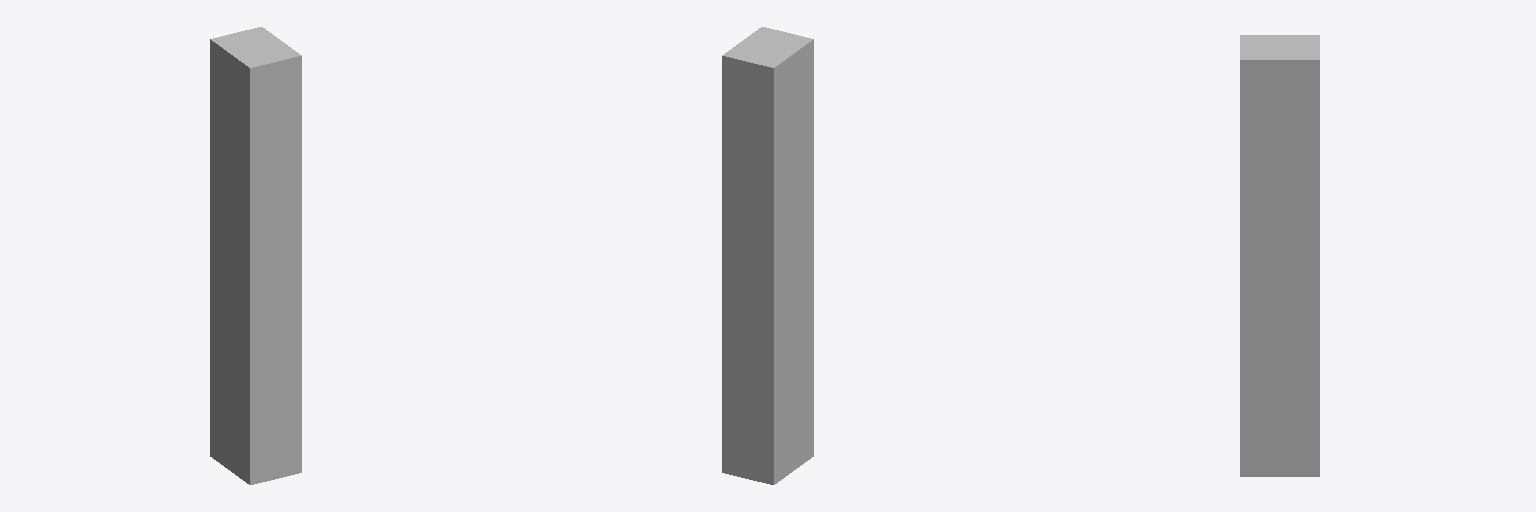
The model's file is laser_blade_1009.obj.
3 renders of one model, left to right at view 1: azimuth 30°, elevation 25°; view 2: azimuth 150°, elevation 25°; view 3: azimuth 270°, elevation 25°, orthographic.
Visible parts, largest first — view 1: BladeOut; view 2: BladeOut; view 3: BladeOut.
Part boxes in pixels (bbox=[...]): BladeOut: bbox=[210, 27, 301, 484]; BladeOut: bbox=[722, 27, 813, 484]; BladeOut: bbox=[1240, 35, 1319, 476].
Size of the model in its own units: 0.1875 by 1.44 by 0.25.